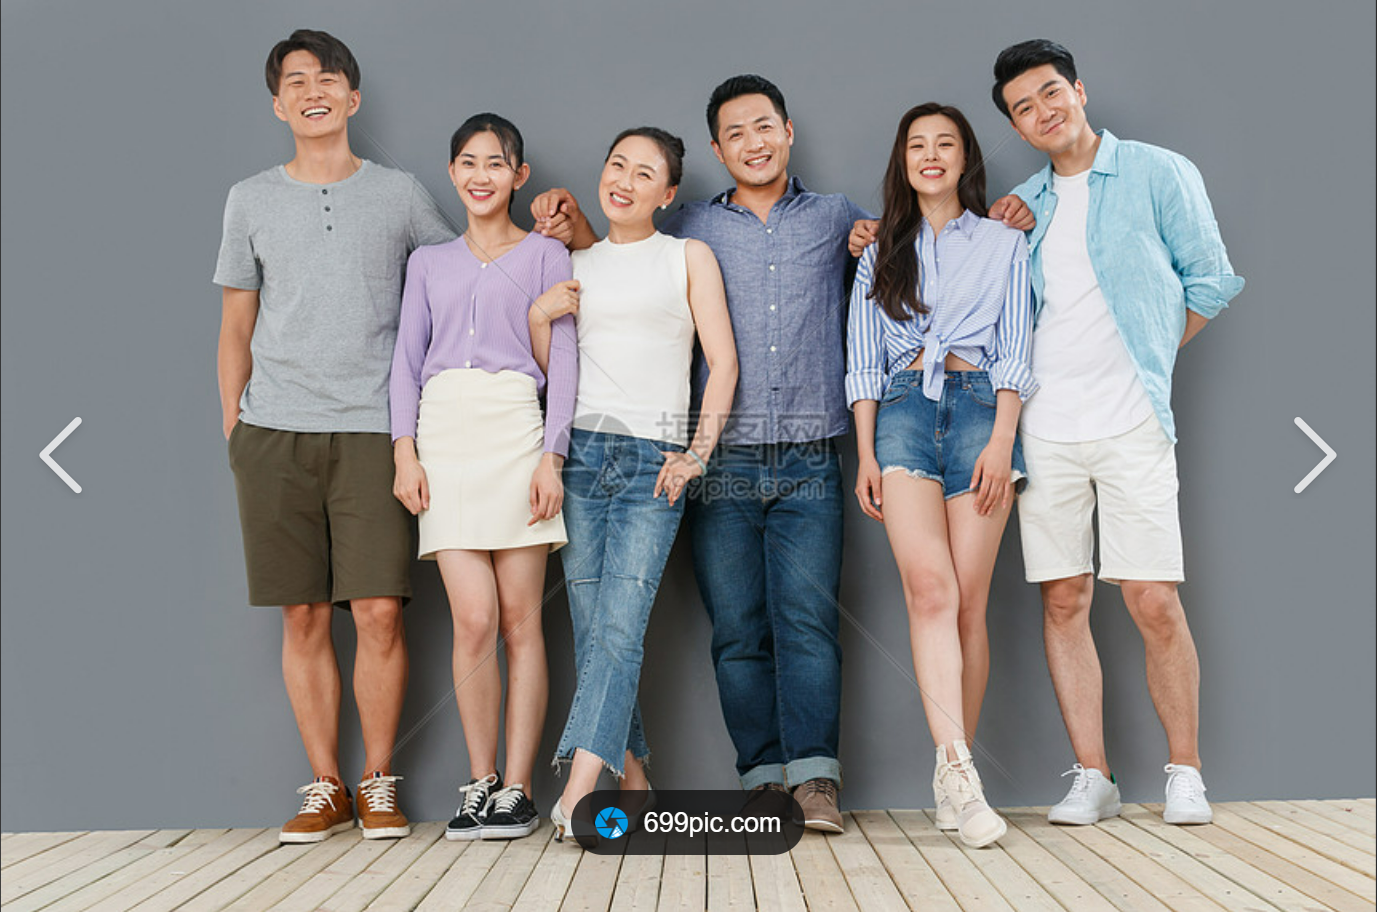people: (981, 33, 1245, 836), (209, 18, 420, 841), (859, 83, 1027, 873), (392, 101, 562, 854), (695, 70, 857, 846), (566, 124, 713, 847)
